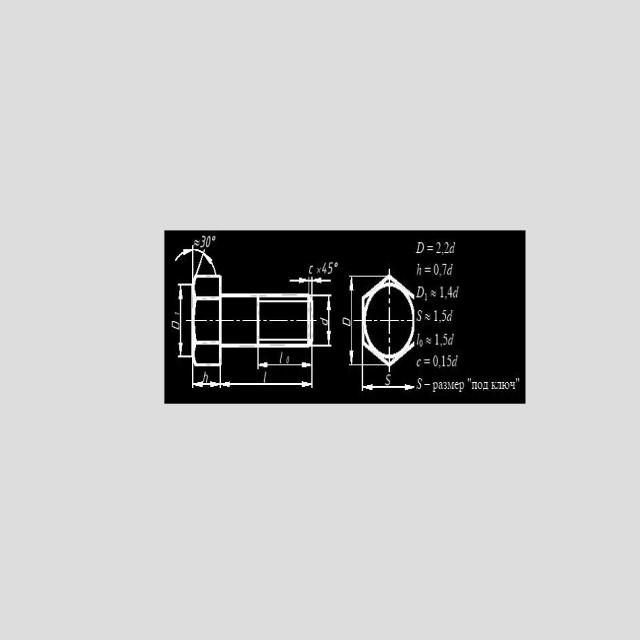marking_line: (174, 247, 222, 275), (222, 379, 311, 390), (348, 277, 355, 364), (285, 275, 335, 285), (178, 286, 185, 355), (194, 372, 219, 391), (260, 361, 312, 370), (365, 383, 415, 391), (327, 297, 333, 345)
numeric: (433, 353, 452, 370), (433, 262, 448, 278), (439, 284, 454, 300), (433, 309, 448, 325), (435, 240, 450, 255), (433, 332, 449, 346)
special_symbol: (424, 313, 432, 323), (425, 336, 432, 347), (429, 290, 437, 299), (423, 358, 431, 367), (427, 244, 435, 252), (423, 266, 432, 273), (193, 240, 201, 247), (423, 382, 431, 387)
